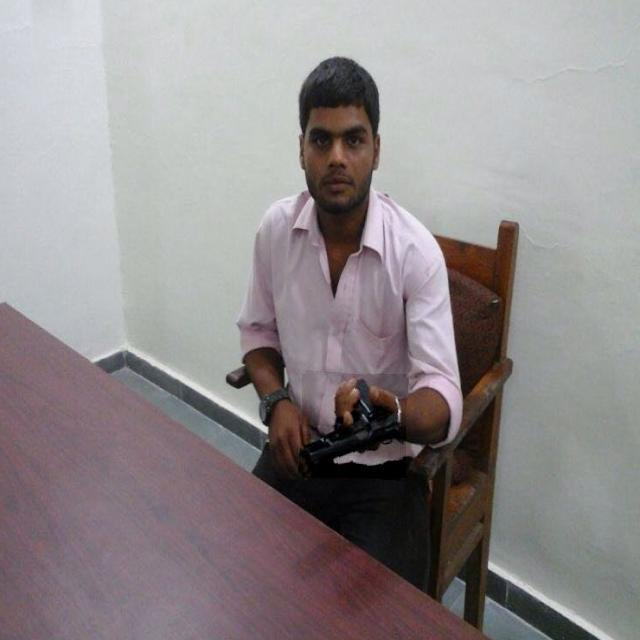handgun: (300, 372, 408, 480)
